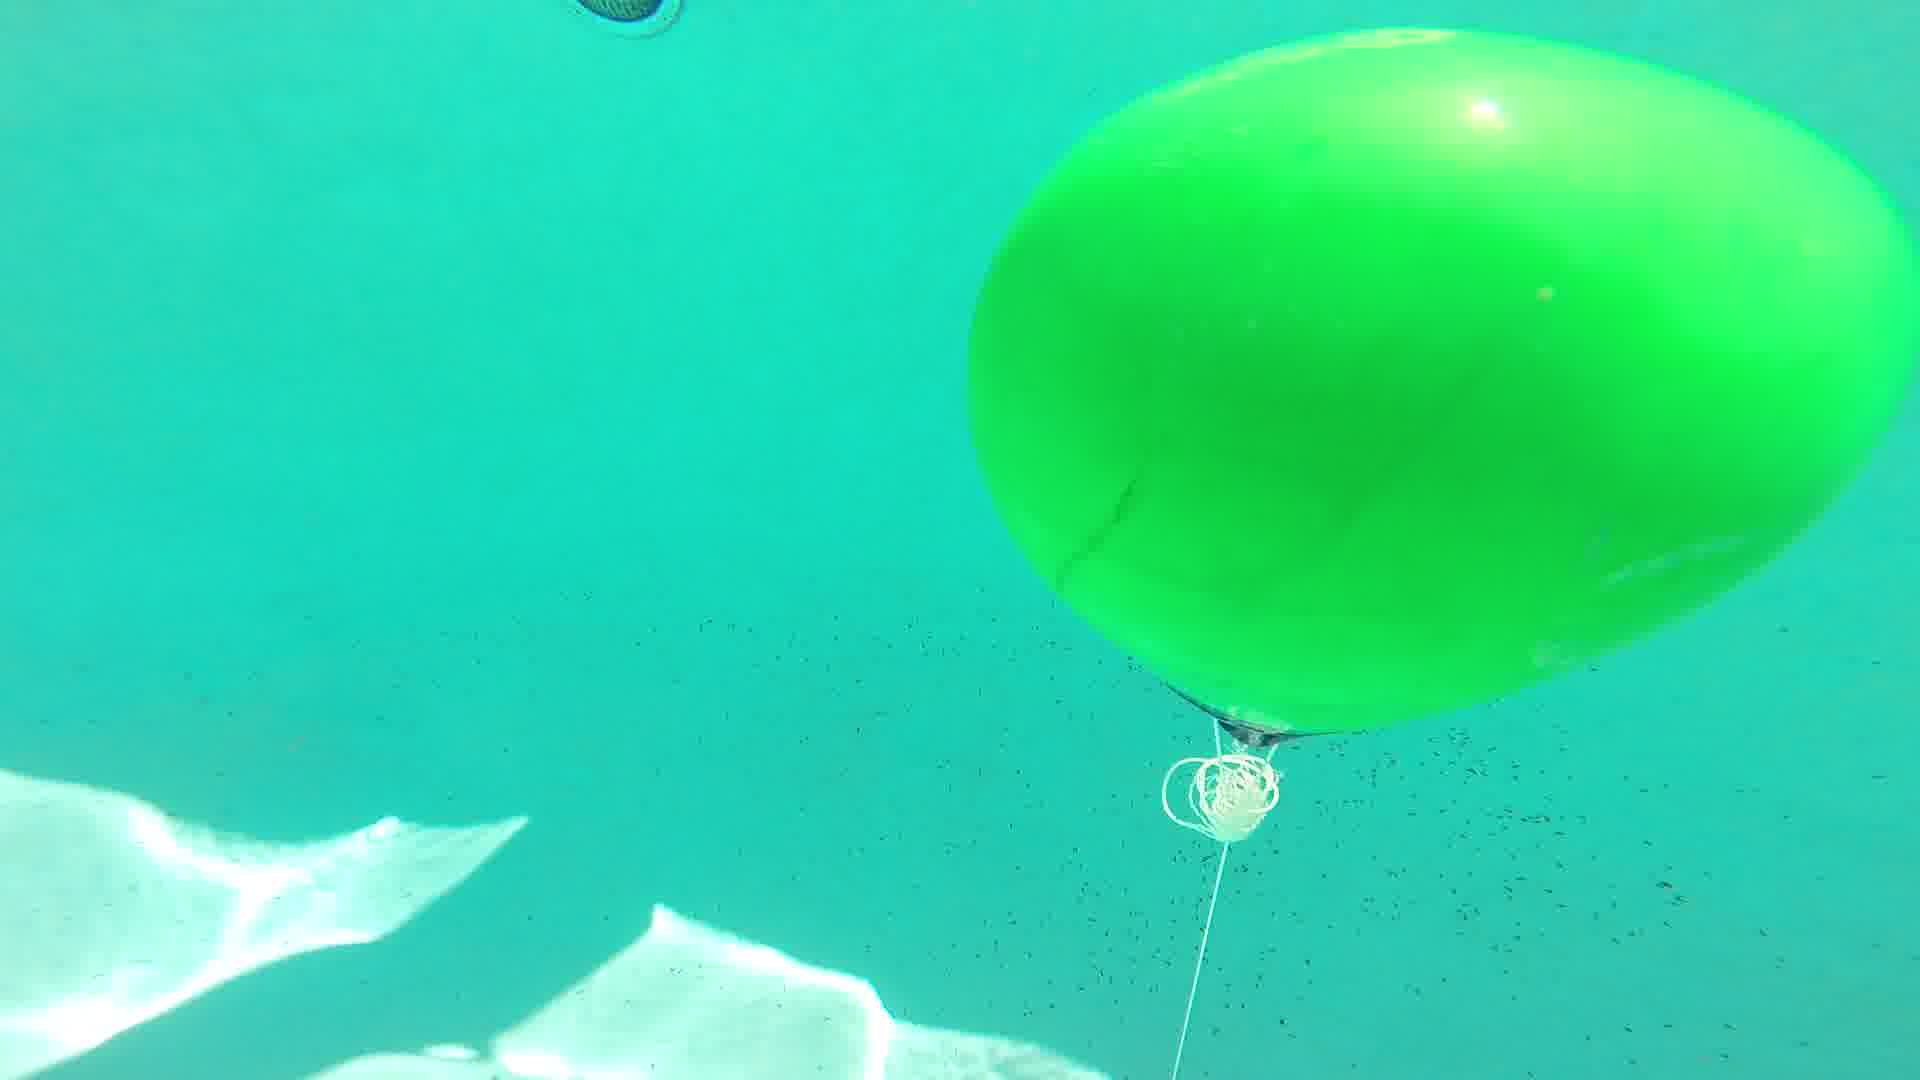yellow_buoy: (943, 30, 1920, 752)
